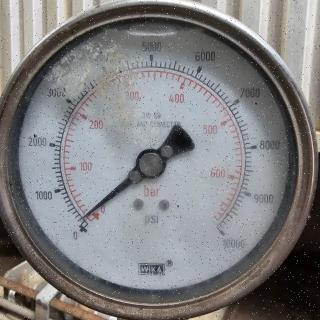gauge: (0, 0, 320, 320), (64, 203, 104, 245), (206, 217, 240, 249), (136, 148, 166, 178), (75, 212, 89, 226)
